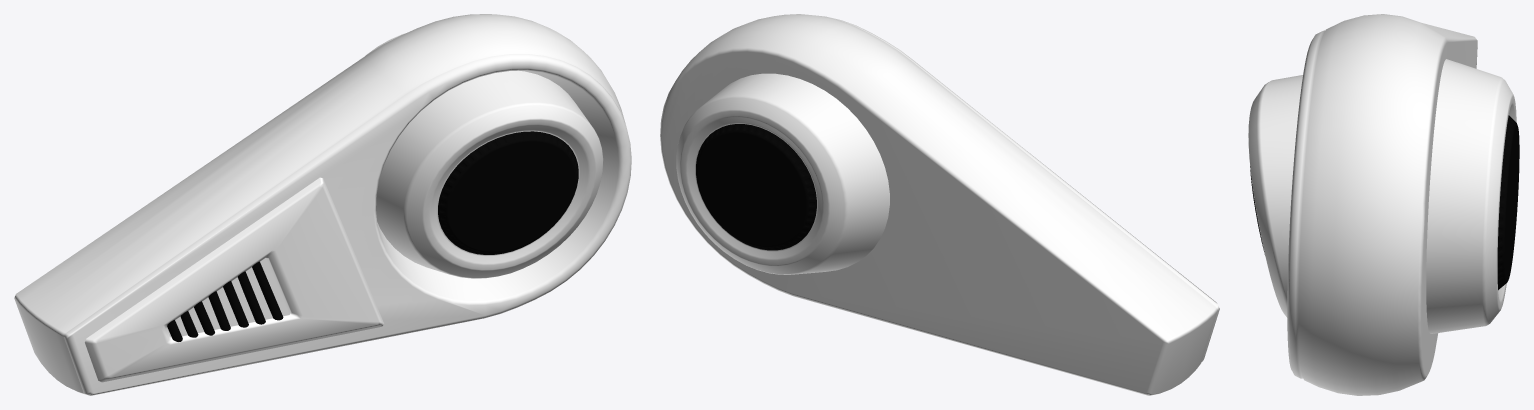
File: SM_CR03_HoverL.fbx
3 views of the same model, side by side, from view 1: azimuth 30°, elevation 25°; view 2: azimuth 150°, elevation 25°; view 3: azimuth 270°, elevation 25° (orthographic). The views are drawn at different scales.
Parts seen in each view (by area): view 1: SM_CR03_HoverL_LOD0; view 2: SM_CR03_HoverL_LOD0; view 3: SM_CR03_HoverL_LOD0.
Part boxes in pixels (<box>): SM_CR03_HoverL_LOD0: <box>14,14,631,395</box>; SM_CR03_HoverL_LOD0: <box>660,14,1219,395</box>; SM_CR03_HoverL_LOD0: <box>1248,14,1519,395</box>.
Size of the model in its own units: 154 by 52.97 by 73.47.
1 material, 1 textured.
